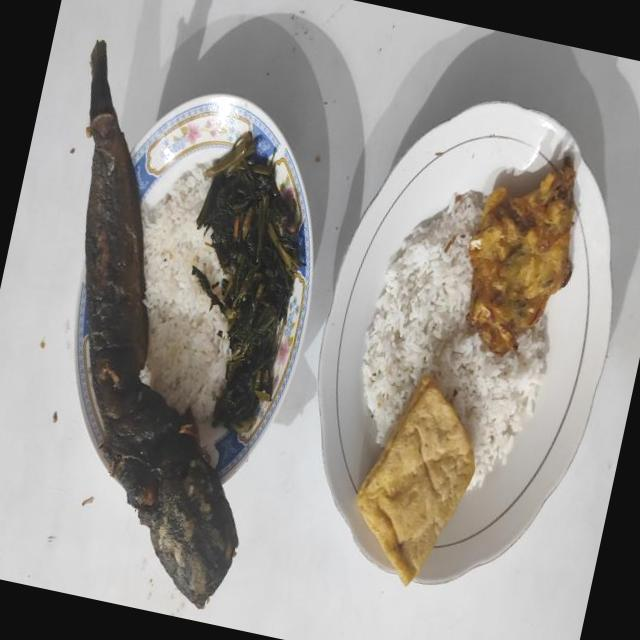nasi_putih: (361, 190, 549, 486), (140, 167, 230, 420)
tahu_goreng: (356, 377, 474, 584)
tumis_kangkung: (192, 132, 305, 430)
